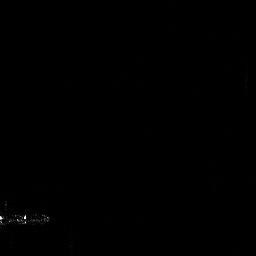ship: (1, 208, 53, 228)
